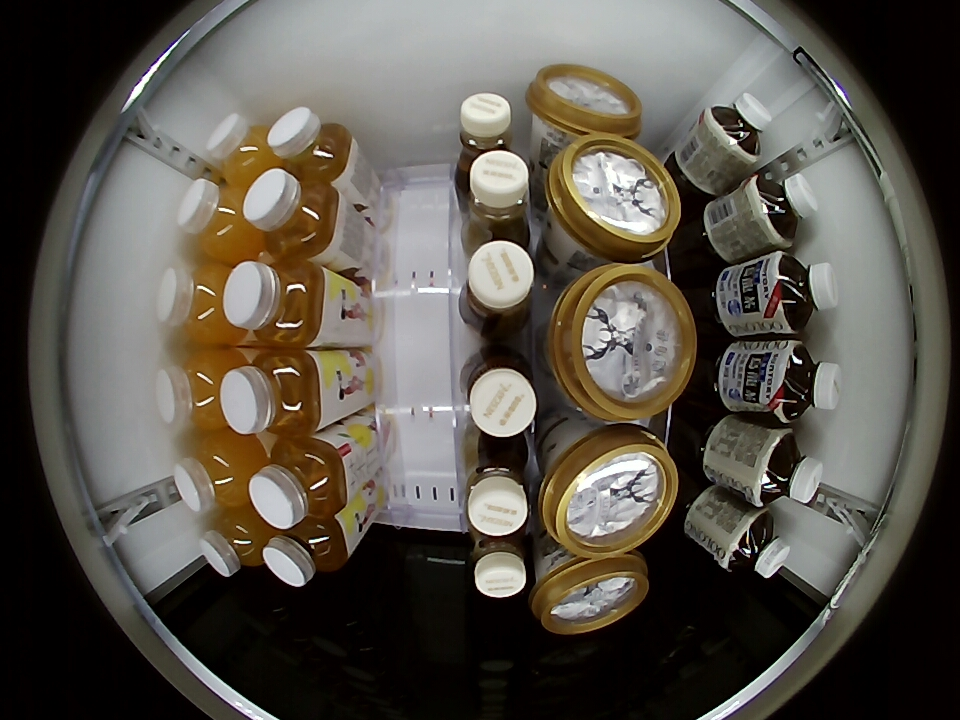chapai: (248, 436, 349, 529), (222, 259, 327, 348), (219, 350, 323, 436), (243, 168, 341, 259), (268, 108, 355, 185), (263, 513, 351, 587)
kafei: (460, 240, 538, 339), (460, 149, 535, 251), (463, 432, 532, 537), (462, 349, 539, 439), (455, 92, 519, 173), (466, 523, 532, 599)
lujiaoxiang: (546, 263, 697, 422), (540, 426, 679, 556), (545, 136, 681, 262), (531, 552, 650, 634), (526, 65, 644, 140)
weic: (173, 432, 269, 511), (177, 178, 266, 261), (156, 263, 247, 344), (155, 348, 244, 429), (206, 115, 283, 188), (199, 507, 276, 577)
wulongcha: (762, 253, 840, 334), (768, 340, 843, 423), (752, 429, 824, 506), (750, 171, 818, 246), (722, 509, 791, 579), (705, 92, 774, 162)
